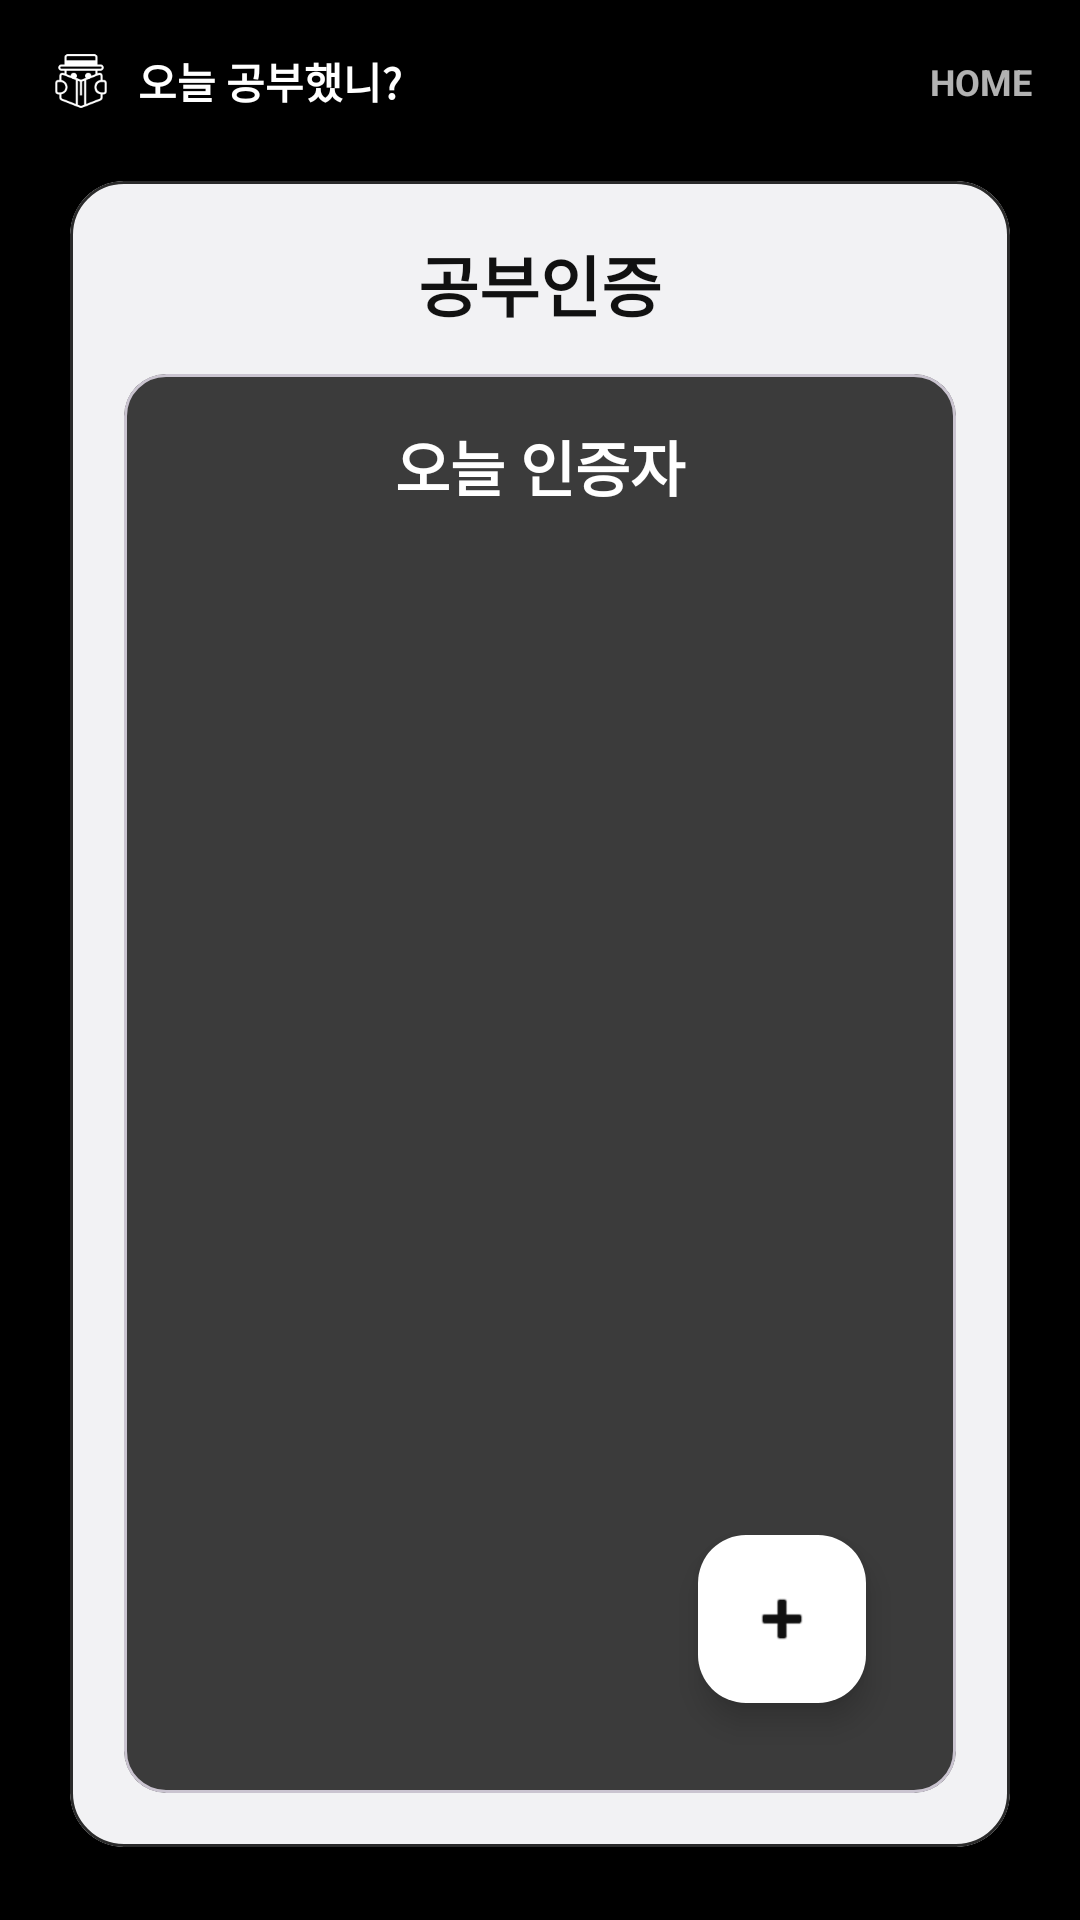

Icon bounding boxes for this 1080 × 1920 phone screenshot, format (x1,y1,x2,y2):
인증 추가: (698,1535,866,1703)
